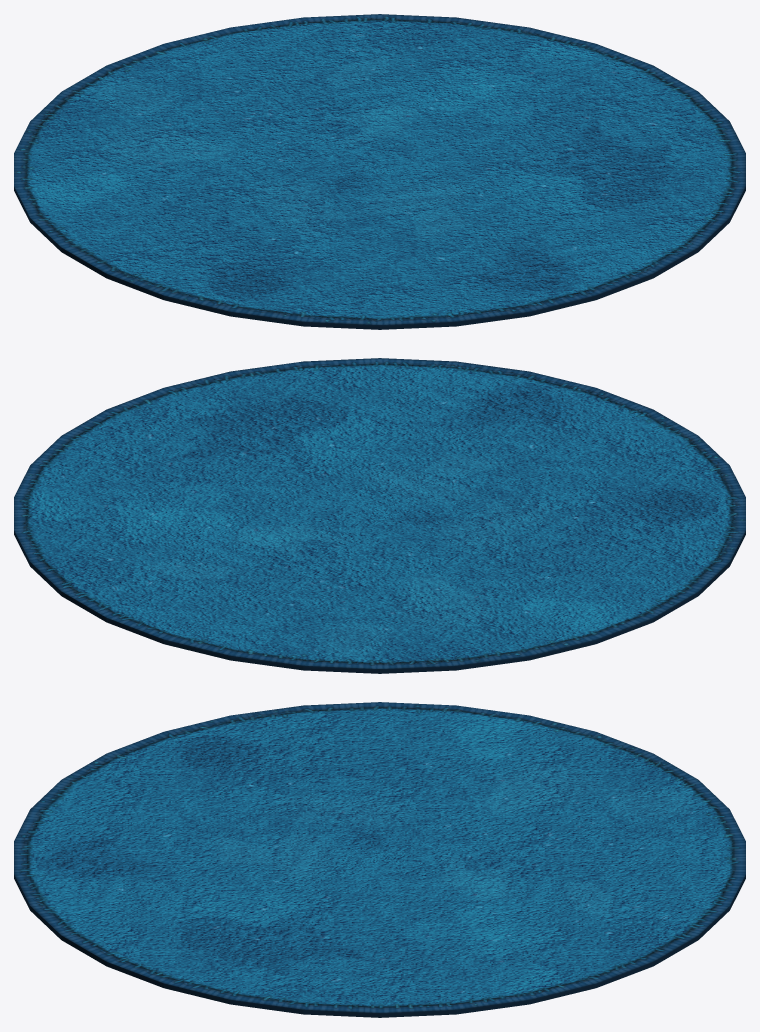
The model's file is round_carpet_geo.fbx.
The picture shows the model from 3 angles, top to bottom: view 1: azimuth 30°, elevation 25°; view 2: azimuth 150°, elevation 25°; view 3: azimuth 270°, elevation 25°; orthographic projection.
Visible parts, largest first — view 1: carpet_geo; view 2: carpet_geo; view 3: carpet_geo.
Boxes of the visible parts, bbox=[...] form: carpet_geo: bbox=[14, 14, 745, 329]; carpet_geo: bbox=[14, 358, 745, 673]; carpet_geo: bbox=[14, 702, 745, 1017].
Bounding box in the file's own units: 2.65 × 0.0188 × 2.63.
